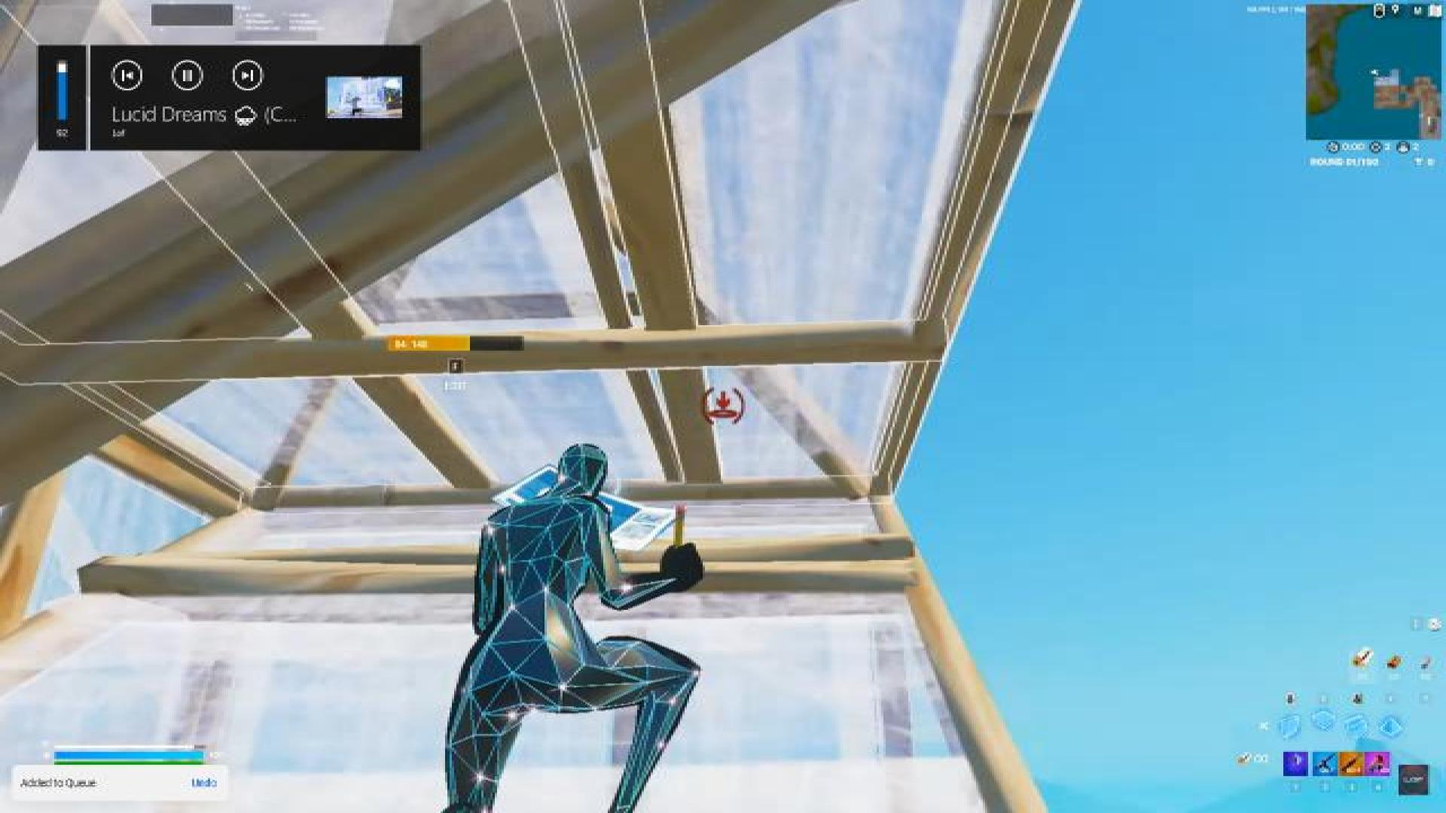player: (465, 449, 680, 812)
